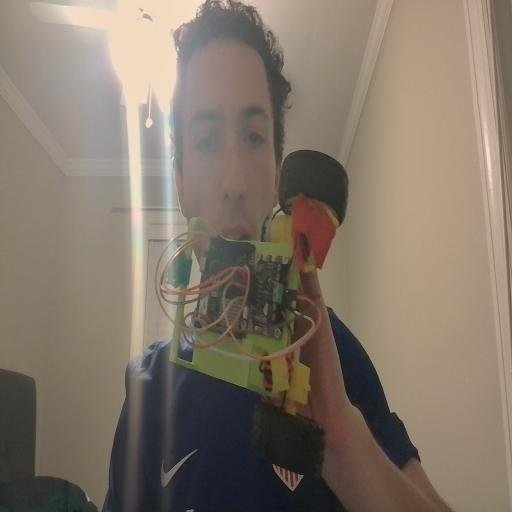green LEGO minifig: (163, 242, 193, 290)
